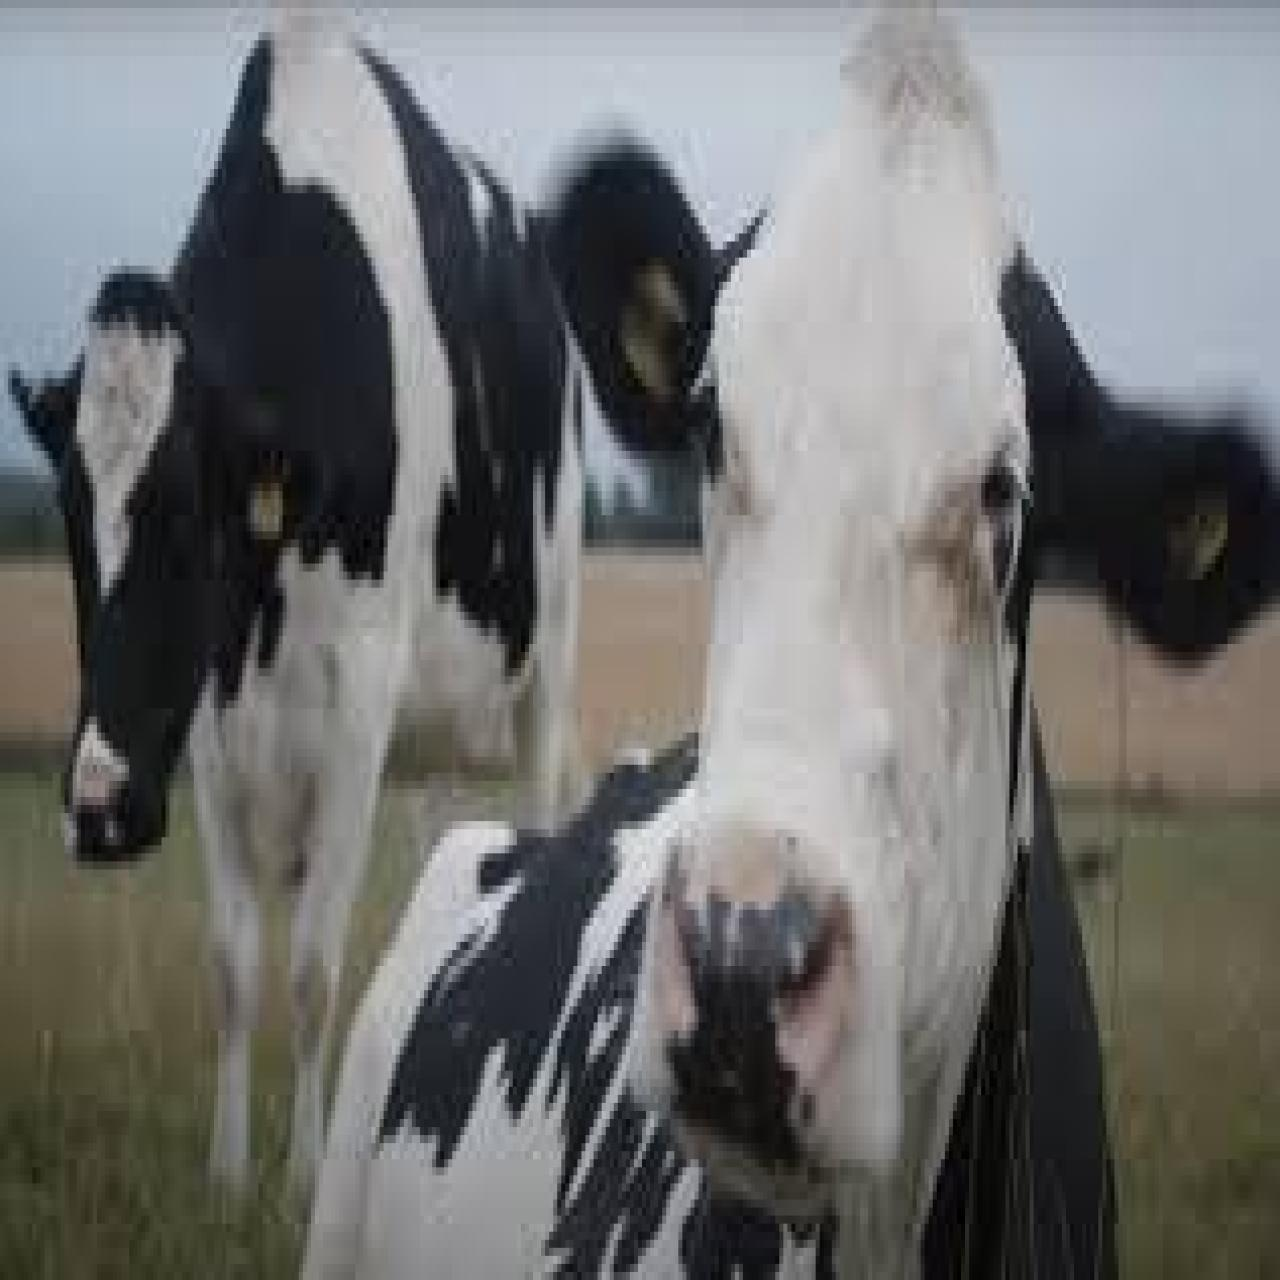cow: (295, 73, 1280, 1280), (12, 25, 581, 1224)
